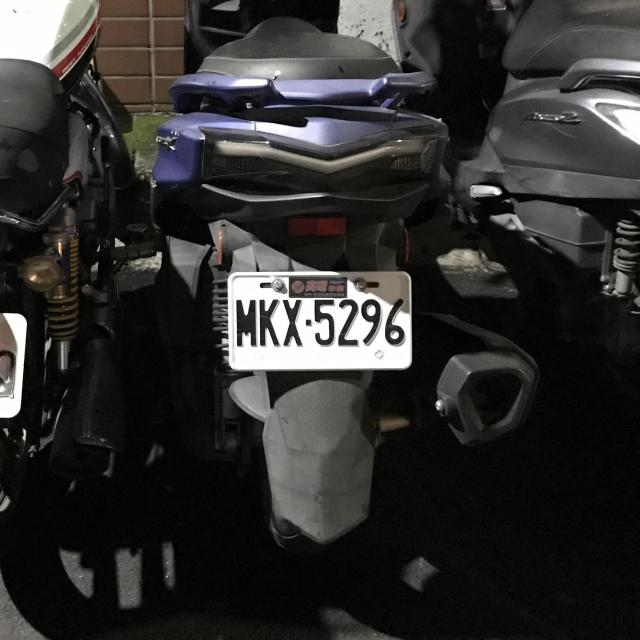W: (224, 268, 416, 376), (0, 304, 31, 424)
